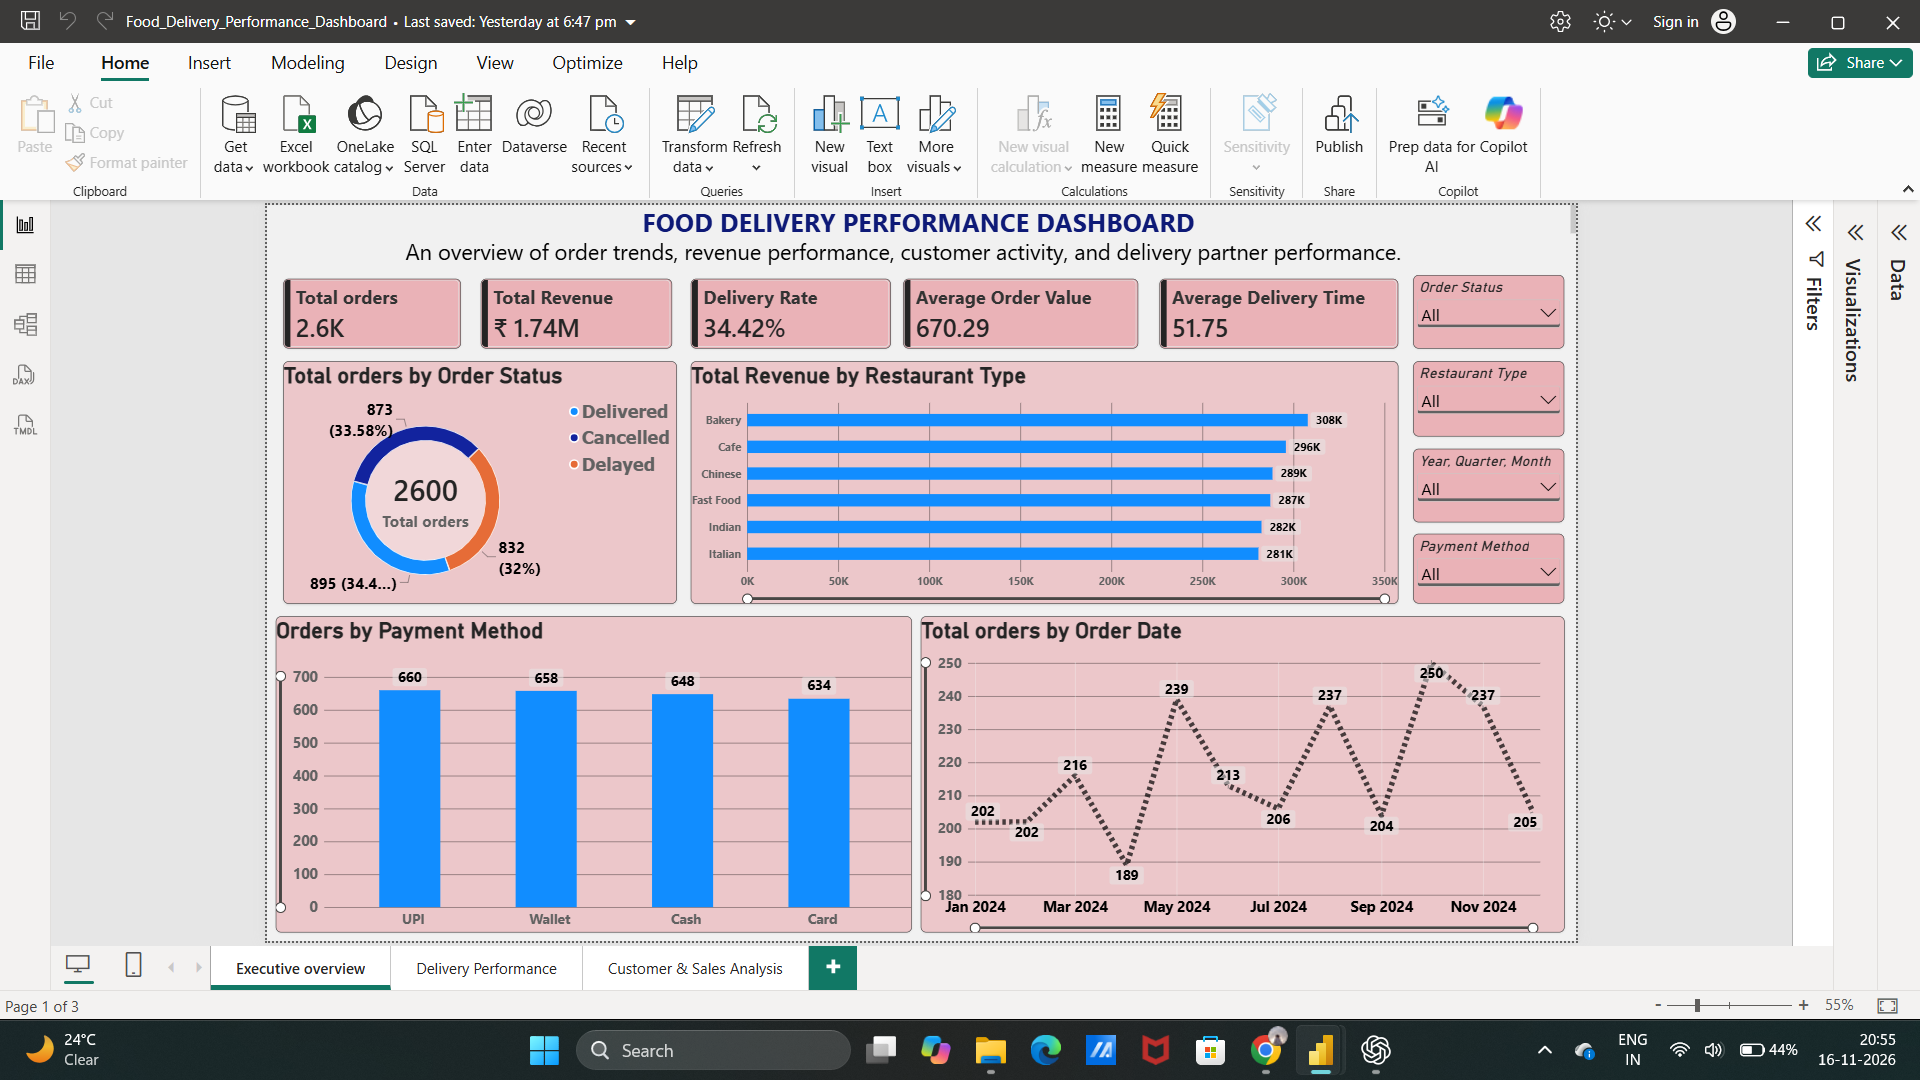

The dashboard page shown, as its layout file describes it:
{"tool":"powerbi","page":{"name":"Executive overview","canvas":[1920,1080],"ordinal":0},"visuals":[{"type":"textbox","box":[0,0,1865.4,45.9],"z":0},{"type":"textbox","box":[0,45.9,1867.3,42.2],"z":1},{"type":"cardVisual","fields":{"Data":["daily_food_delivery_orders.Total orders"]},"box":[23.8,108.2,260.5,102.7],"z":2},{"type":"cardVisual","fields":{"Data":["daily_food_delivery_orders.Total revenue"]},"box":[313.7,108.2,280.6,102.7],"z":3},{"type":"cardVisual","fields":{"Data":["daily_food_delivery_orders.Average Order Value"]},"box":[1179.4,108.2,344.8,102.7],"z":4},{"type":"cardVisual","fields":{"Data":["daily_food_delivery_orders.Average Delivery Time"]},"box":[1553.6,108.2,350.3,102.7],"z":5},{"type":"cardVisual","fields":{"Data":["daily_food_delivery_orders.Delivery Rate"]},"box":[865.8,108.2,293.5,102.7],"z":6},{"type":"lineChart","title":"Total orders by Order Date","fields":{"Category":["daily_food_delivery_orders.order_date.Variation.Date Hierarchy.Year","daily_food_delivery_orders.order_date.Variation.Date Hierarchy.Quarter","daily_food_delivery_orders.order_date.Variation.Date Hierarchy.Month"],"Y":["daily_food_delivery_orders.Total orders"]},"box":[959.3,603.5,944.6,464.1],"z":7},{"type":"donutChart","title":"Total orders by Order Status","fields":{"Category":["daily_food_delivery_orders.order_status"],"Y":["daily_food_delivery_orders.Total orders"]},"box":[23.8,229.3,577.8,355.8],"z":8},{"type":"clusteredBarChart","title":"Total Revenue by Restaurant Type","fields":{"Category":["daily_food_delivery_orders.restaurant_type"],"Y":["daily_food_delivery_orders.Total Revenue"]},"box":[865.8,229.3,1038.2,355.8],"z":9},{"type":"clusteredColumnChart","title":"Orders by Payment Method","fields":{"Category":["daily_food_delivery_orders.payment_method"],"Y":["daily_food_delivery_orders.Total orders"]},"box":[12.8,603.5,933.6,464.1],"z":10},{"type":"slicer","fields":{"Values":["daily_food_delivery_orders.order_date.Variation.Date Hierarchy.Year","daily_food_delivery_orders.order_date.Variation.Date Hierarchy.Quarter","daily_food_delivery_orders.order_date.Variation.Date Hierarchy.Month"]},"box":[616.3,229.3,221.9,93.5],"z":11},{"type":"slicer","fields":{"Values":["daily_food_delivery_orders.restaurant_type"]},"box":[614.5,343,221.9,110.1],"z":12},{"type":"slicer","fields":{"Values":["daily_food_delivery_orders.order_status"]},"box":[618.1,469.6,218.3,115.6],"z":13},{"type":"slicer","fields":{"Values":["daily_food_delivery_orders.payment_method"]},"box":[614.5,108.2,221.9,102.7],"z":14}]}

Visuals, with their boxes on the page's 1920x1080 design canvas (x1, y1, x2, y2). These are canvas units, not pixel positions in the 1920x1080 screenshot, which may show the page scaled, cropped or inside an application window:
textbox: 0 0 1865 46
textbox: 0 46 1867 88
cardVisual - daily_food_delivery_orders.Total orders: 24 108 284 211
cardVisual - daily_food_delivery_orders.Total revenue: 314 108 594 211
cardVisual - daily_food_delivery_orders.Average Order Value: 1179 108 1524 211
cardVisual - daily_food_delivery_orders.Average Delivery Time: 1554 108 1904 211
cardVisual - daily_food_delivery_orders.Delivery Rate: 866 108 1159 211
"Total orders by Order Date" lineChart: 959 604 1904 1068
"Total orders by Order Status" donutChart: 24 229 602 585
"Total Revenue by Restaurant Type" clusteredBarChart: 866 229 1904 585
"Orders by Payment Method" clusteredColumnChart: 13 604 946 1068
slicer - daily_food_delivery_orders.order_date.Variation.Date Hierarchy.Year x daily_food_delivery_orders.order_date.Variation.Date Hierarchy.Quarter: 616 229 838 323
slicer - daily_food_delivery_orders.restaurant_type: 614 343 836 453
slicer - daily_food_delivery_orders.order_status: 618 470 836 585
slicer - daily_food_delivery_orders.payment_method: 614 108 836 211
